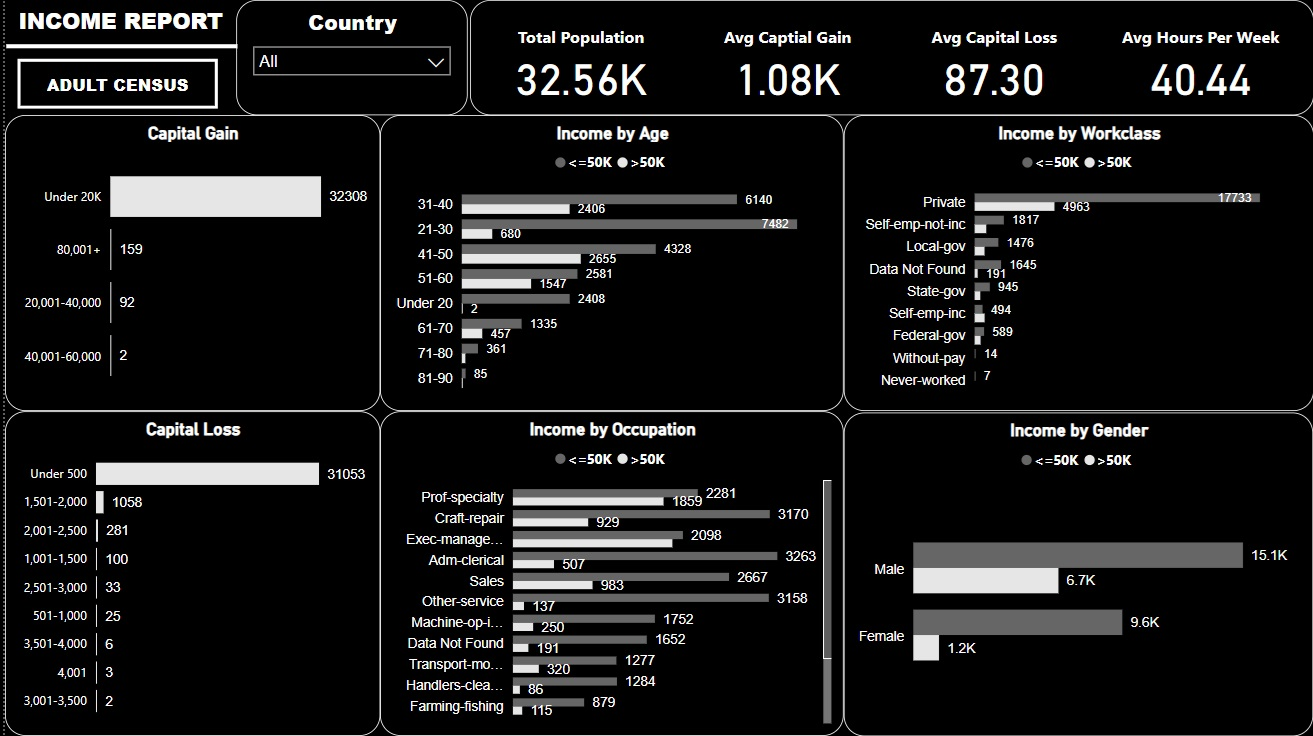

The page's visual inventory and layout, read from the dashboard file:
{"tool":"powerbi","page":{"name":"Income_Report","canvas":[1280,720],"ordinal":1},"visuals":[{"type":"textbox","box":[0,0,226.2,45.2],"z":0},{"type":"cardVisual","fields":{"Data":["CountNonNull(adult.Gender)","Avg(adult.Captial Gain)","Avg(adult.capital.loss)","Avg(adult.hours.per.week)"]},"box":[454.9,0,825.4,112.5],"z":1000},{"type":"slicer","title":"Country","fields":{"Values":["adult.native.country"]},"box":[226.2,0,226.2,112.5],"z":2000},{"type":"shape","box":[1.2,39.1,226.2,12.2],"z":3000},{"type":"actionButton","box":[12,57,196,48.9],"z":4000},{"type":"clusteredBarChart","title":"Income by Age ","fields":{"Category":["adult.Age_Bracket"],"Y":["CountNonNull(adult.Age_Bracket)"],"Series":["adult.income($)"]},"box":[366.8,112.5,453.7,289.8],"z":5000},{"type":"clusteredBarChart","title":"Income by Workclass ","fields":{"Category":["adult.workclass"],"Y":["CountNonNull(adult.workclass)"],"Series":["adult.income($)"]},"box":[820.5,112.5,459.8,289.8],"z":6000},{"type":"clusteredBarChart","title":"Capital Gain ","fields":{"Category":["adult.Capital_Gain_Bracket"],"Y":["CountNonNull(adult.Capital_Gain_Bracket)"]},"box":[0,112.5,366.8,289.8],"z":7000},{"type":"barChart","title":"Capital Loss ","fields":{"Category":["adult.capital_loss_bracket"],"Y":["CountNonNull(adult.capital_loss_bracket)"]},"box":[0,402.3,366.8,317.9],"z":8000},{"type":"clusteredBarChart","title":"Income by Occupation ","fields":{"Series":["adult.income($)"],"Category":["adult.occupation"],"Y":["CountNonNull(adult.occupation)"]},"box":[366.8,402.3,453.7,317.9],"z":9000},{"type":"clusteredBarChart","title":"Income by Gender","fields":{"Category":["adult.Gender"],"Y":["CountNonNull(adult.Gender)"],"Series":["adult.income($)"]},"box":[821,403,459,317],"z":10000}]}

Visuals, with their boxes in screenshot pixels (x1, y1, x2, y2), scaled from the page's 1280x720 canvas onto the 1313x736 screenshot:
textbox: (0,0,232,46)
cardVisual - CountNonNull(adult.Gender) x Avg(adult.Captial Gain): (467,0,1312,115)
"Country" slicer: (232,0,464,115)
shape: (1,40,233,52)
actionButton: (12,58,213,108)
"Income by Age " clusteredBarChart: (376,115,842,411)
"Income by Workclass " clusteredBarChart: (842,115,1312,411)
"Capital Gain " clusteredBarChart: (0,115,376,411)
"Capital Loss " barChart: (0,411,376,735)
"Income by Occupation " clusteredBarChart: (376,411,842,735)
"Income by Gender" clusteredBarChart: (842,412,1312,735)
